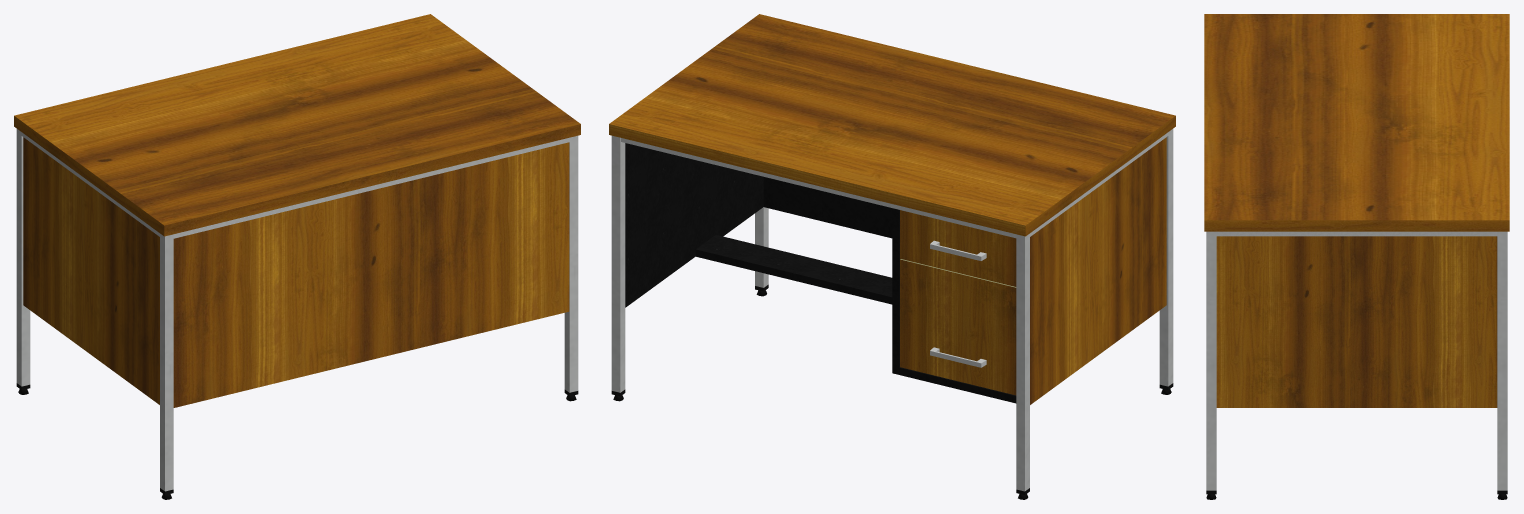
Rendered from Desk_04.dae.
The picture shows the model from 3 angles, left to right: view 1: azimuth 30°, elevation 25°; view 2: azimuth 150°, elevation 25°; view 3: azimuth 270°, elevation 25°; orthographic projection.
Parts seen in each view (by area): view 1: Desk_04; view 2: Desk_04, D_4_Drawer_2, D_4_Drawer_1; view 3: Desk_04.
Boxes of the visible parts, box(x1,y1,x2,y2) form: Desk_04: box(14, 14, 580, 499); Desk_04: box(609, 14, 1175, 499); D_4_Drawer_2: box(900, 259, 1016, 395); D_4_Drawer_1: box(900, 210, 1016, 286); Desk_04: box(1204, 14, 1509, 499).
Size of the model in its own units: 1.2 by 0.75 by 0.76.
Materials: 5 (5 with a texture image).
